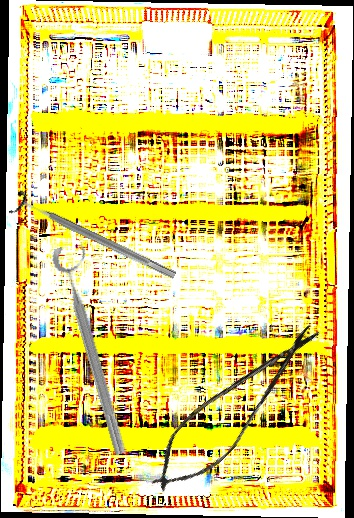Fixation Ring: (49, 240, 144, 458), (8, 187, 181, 289)
Micro Scissor: (136, 307, 334, 508)
